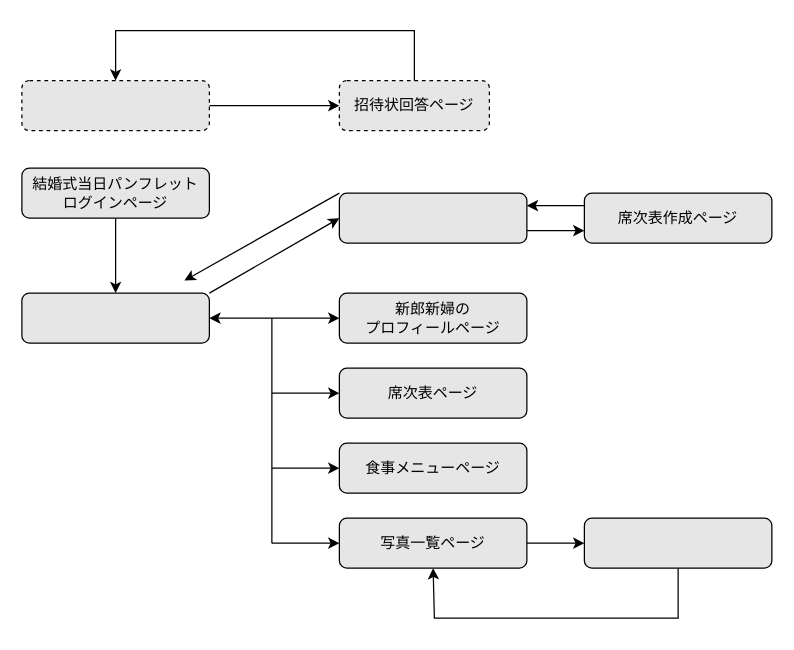
Some shapes in this 794 by 650 pixel diagram are drawn without their labels. Each missing label, with the centre of its shape:
"パンフレット トップページ" belongs at (x=115, y=317).
"写真投稿ページ" belongs at (x=677, y=542).
"招待状ページ" belongs at (x=115, y=105).
"管理画面 ※管理者のみ" belongs at (x=432, y=217).
